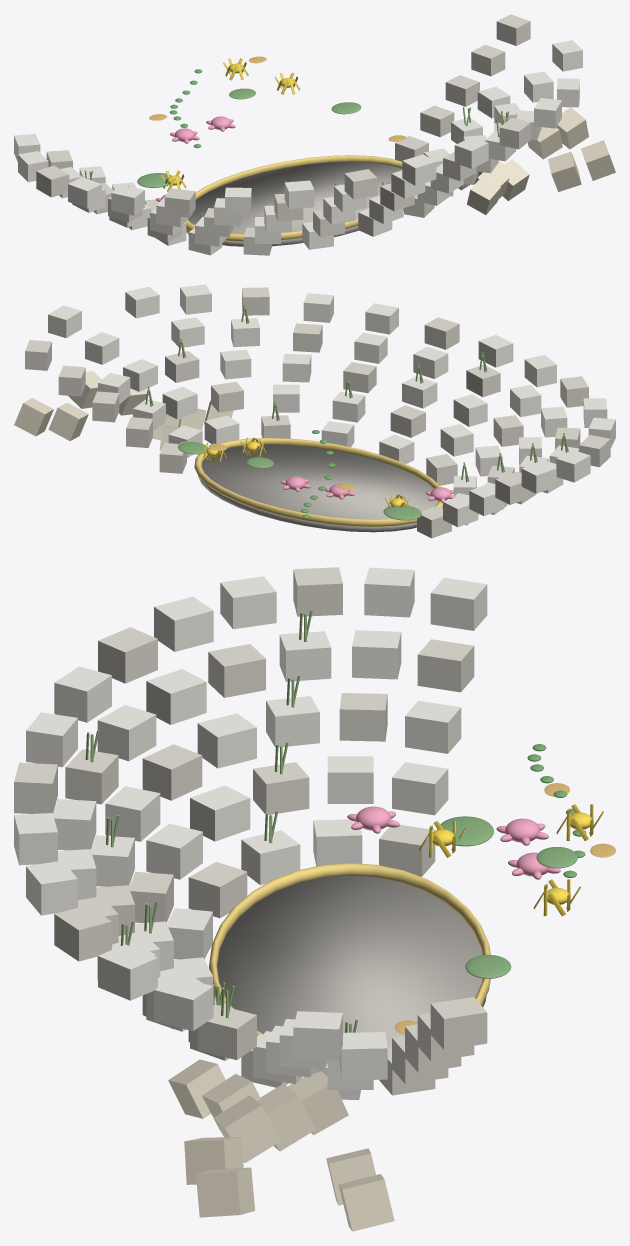
The model's file is ruin_amphitheater_seats.glb.
3 views of the same model, one above another, from view 1: azimuth 30°, elevation 25°; view 2: azimuth 150°, elevation 25°; view 3: azimuth 270°, elevation 25° (orthographic). The views are drawn at different scales.
Parts seen in each view (by area): view 1: Cylinder, Torus, Cube.048, Cube.066, Cube.068, Cube.051, Cube.061, Cube.062, Cube.069, Cube.035, Cube.056, Cube.055 (+46 smaller); view 2: Cylinder, Torus, Cube.050, Cube.068, Cube.015, Cube.060, Cube.052, Cube.049, Cube.065, Cube.028, Cube.043, Cube.059 (+55 smaller); view 3: Cylinder, Torus, Cube.040, Cube.013, Cube.026, Cube.065, Cube.056, Cube.064, Cube.025, Cube.057, Cube.066, Cube.041 (+53 smaller).
Part boxes in pixels (box(x1,y1,x2,y2)): Cylinder: box(186, 161, 403, 246); Torus: box(185, 155, 402, 241); Cube.048: box(548, 152, 581, 191); Cube.066: box(581, 140, 615, 180); Cube.068: box(556, 107, 588, 149); Cube.051: box(471, 44, 505, 76); Cube.061: box(402, 154, 436, 185); Cube.062: box(454, 137, 488, 168); Cube.069: box(496, 14, 530, 45); Cube.035: box(445, 75, 479, 106); Cube.056: box(111, 185, 144, 215); Cube.055: box(68, 177, 101, 208); Cylinder: box(198, 444, 438, 532); Torus: box(194, 438, 445, 526); Cube.050: box(48, 402, 88, 440); Cube.068: box(14, 398, 53, 436); Cube.015: box(390, 405, 425, 437); Cube.060: box(424, 317, 459, 349); Cube.052: box(521, 461, 556, 493); Cube.049: box(85, 332, 119, 364); Cube.065: box(125, 286, 159, 318); Cube.028: box(402, 376, 437, 408); Cube.043: box(413, 346, 448, 378); Cube.059: box(478, 335, 513, 367); Cylinder: box(215, 875, 486, 1047); Torus: box(209, 863, 490, 1035); Cube.040: box(146, 669, 206, 724); Cube.013: box(190, 785, 250, 841); Cube.026: box(142, 744, 202, 800); Cube.065: box(154, 976, 213, 1031); Cube.056: box(154, 596, 213, 651); Cube.064: box(98, 944, 157, 1000); Cube.025: box(197, 713, 256, 768); Cube.057: box(98, 627, 157, 683); Cube.066: box(196, 1167, 255, 1217); Cube.041: box(97, 705, 156, 761).
Bounding box in the file's own units: 9.89 × 2.07 × 5.25.
